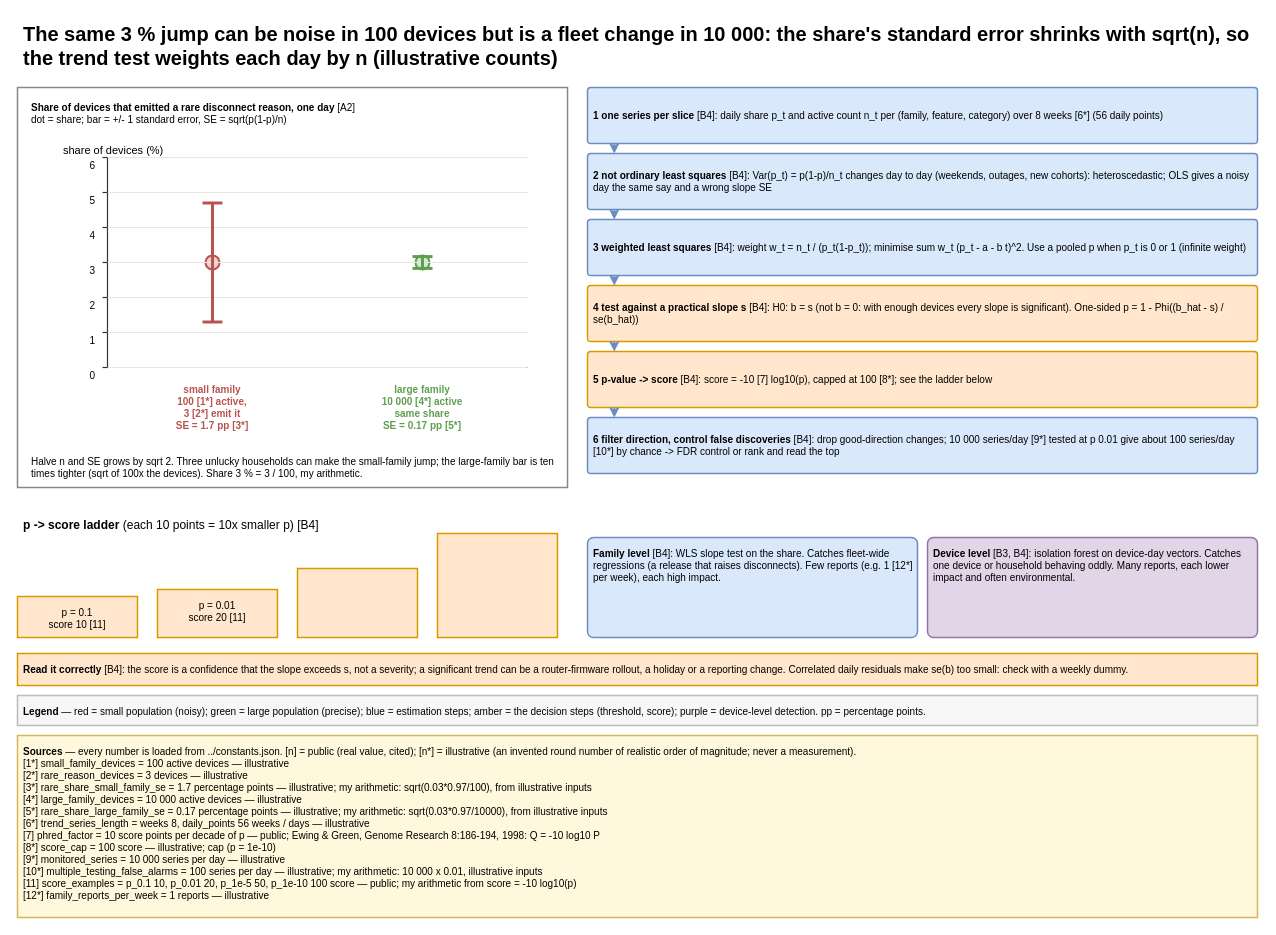
This 1276x935 diagram has some shape labels left out. Here are the shapes that lost their labels. From the top down, the centre of each, then its label:
At (357,602): "p = 1e-5 score 50 [11]".
At (497,585): "p = 1e-10 (cap) score 100 [11]".
